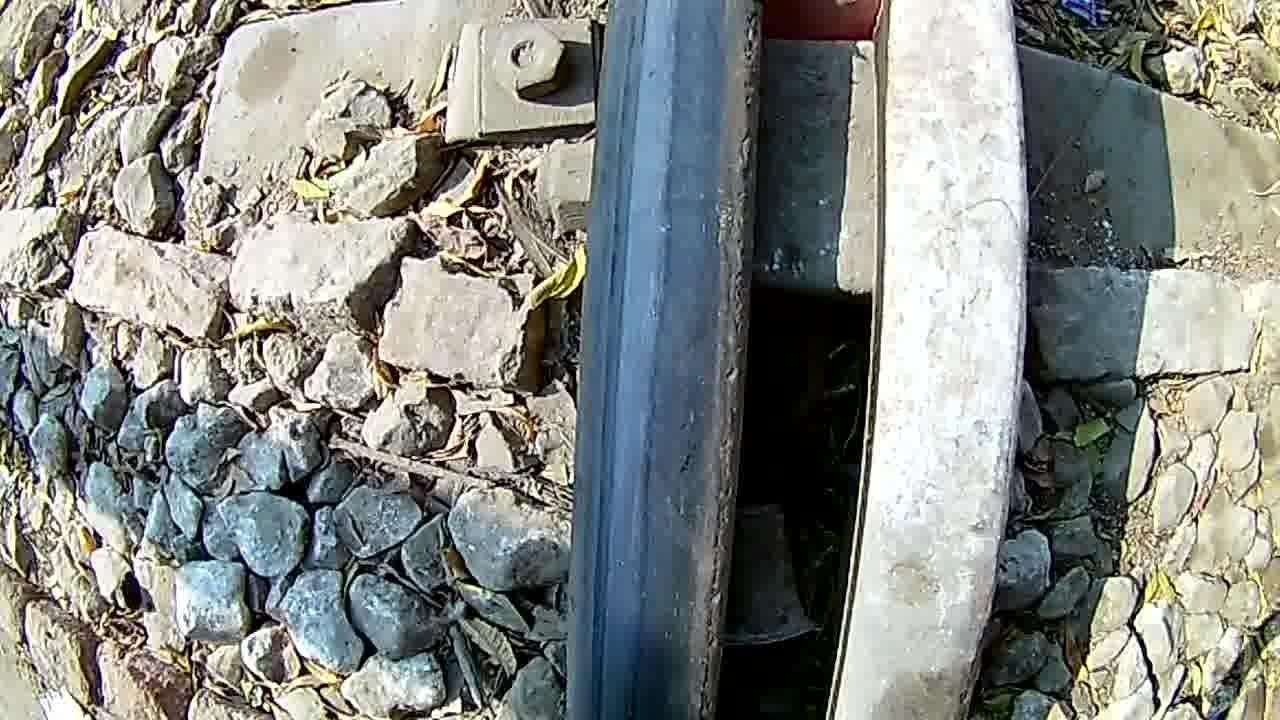crack: (564, 2, 763, 720)
